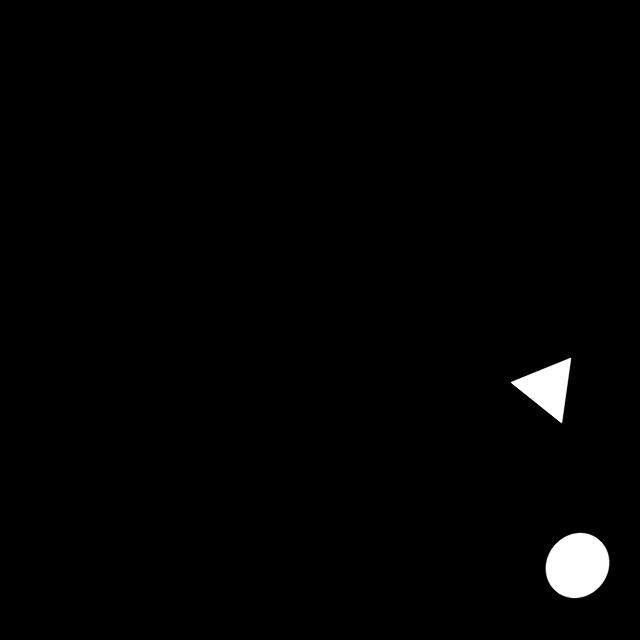Circle: (536, 521, 619, 612)
Triangle: (495, 347, 588, 437)
